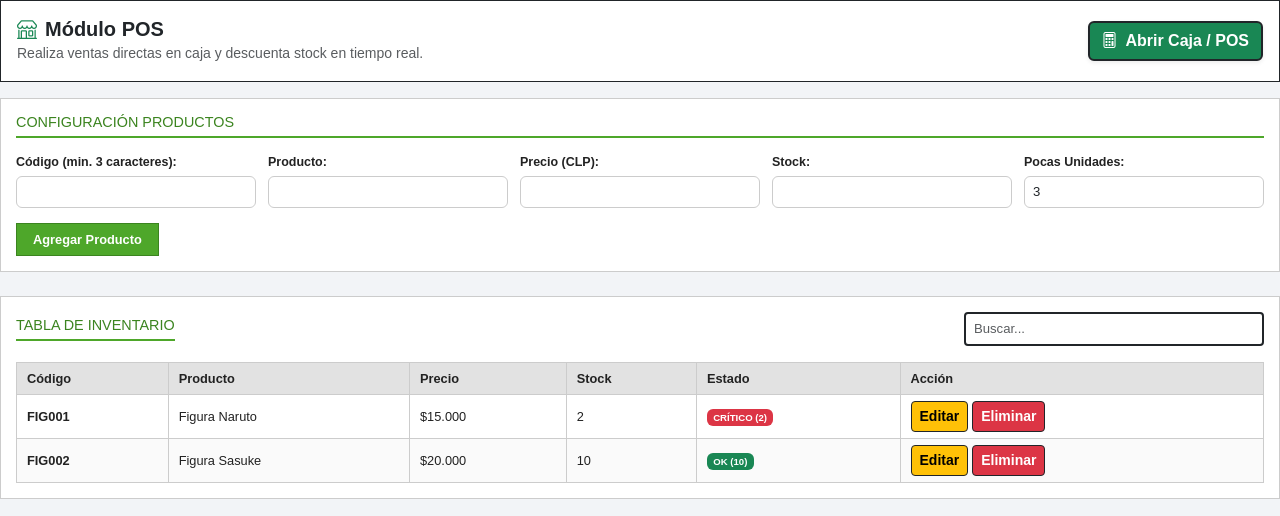
GestionProductos › busca productos por código
The image size is (1280, 516).
In the field with placeholder "Buscar...": (1114, 329) [964,312,1264,346], type "FIG001"
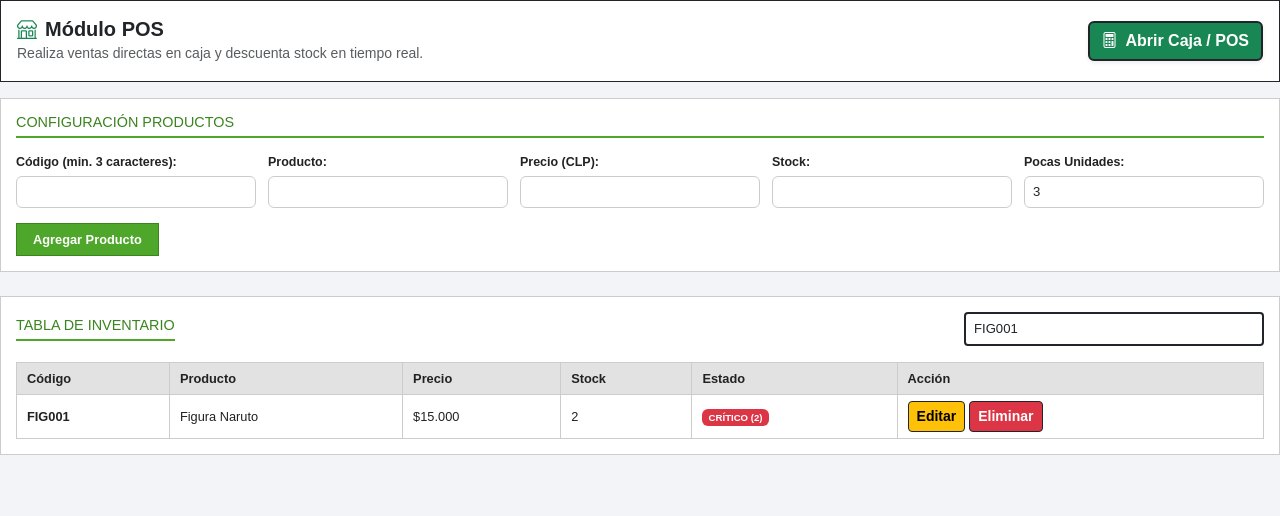
Expected: the text "Figura Naruto" is shown, [169,394,403,438]
Expected: the text "Figura Sasuke" is gone
